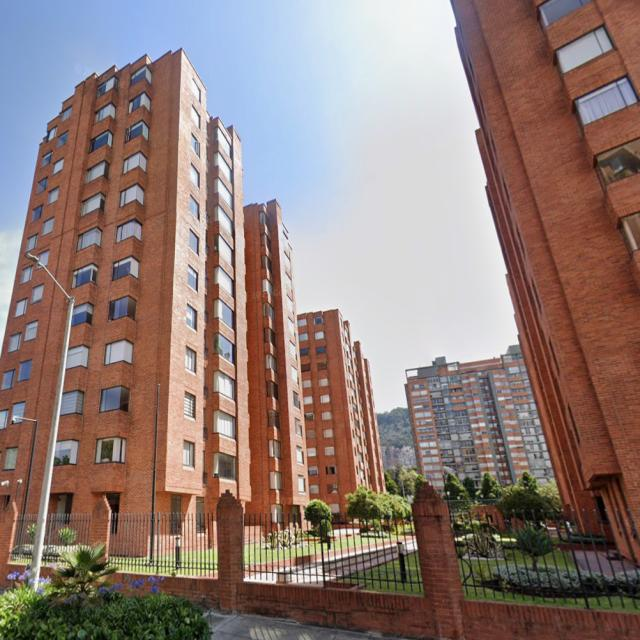fachada: (0, 51, 251, 513), (452, 0, 639, 556), (405, 346, 553, 491), (244, 201, 308, 521), (298, 310, 384, 512)
poste: (32, 297, 74, 589), (150, 384, 160, 562), (23, 420, 38, 513)
